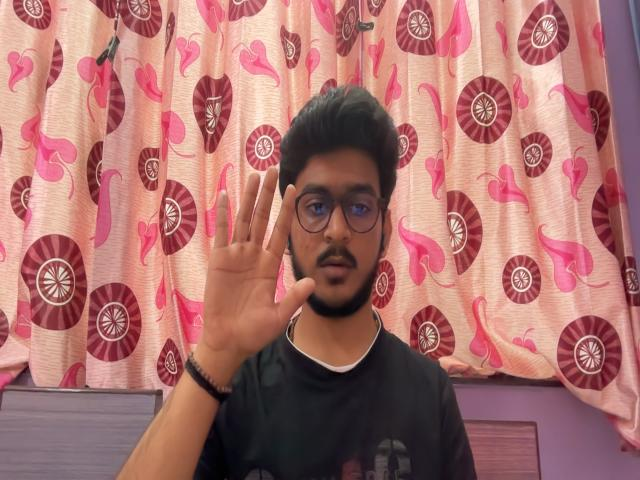Hello: (199, 160, 307, 355)
